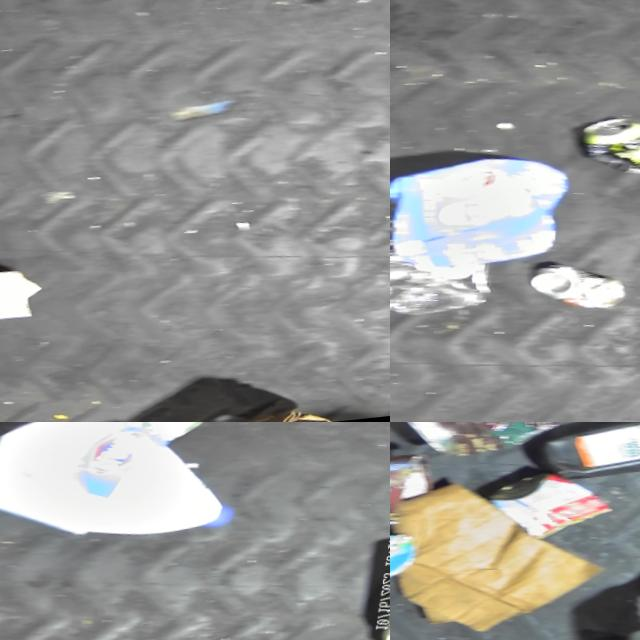can: (390, 422, 598, 485), (483, 467, 618, 560), (524, 261, 635, 329), (571, 112, 640, 205), (88, 422, 212, 462)
milk_jug: (0, 422, 254, 570)
non_white_jug: (535, 422, 640, 511)
plastic_bottle: (390, 187, 505, 337)
